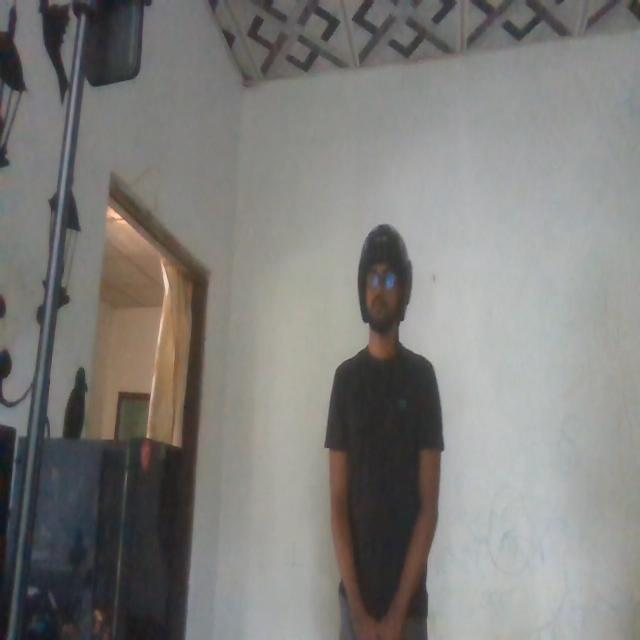Helmet_Wearer: (350, 218, 410, 349)
Person: (317, 218, 442, 640)
